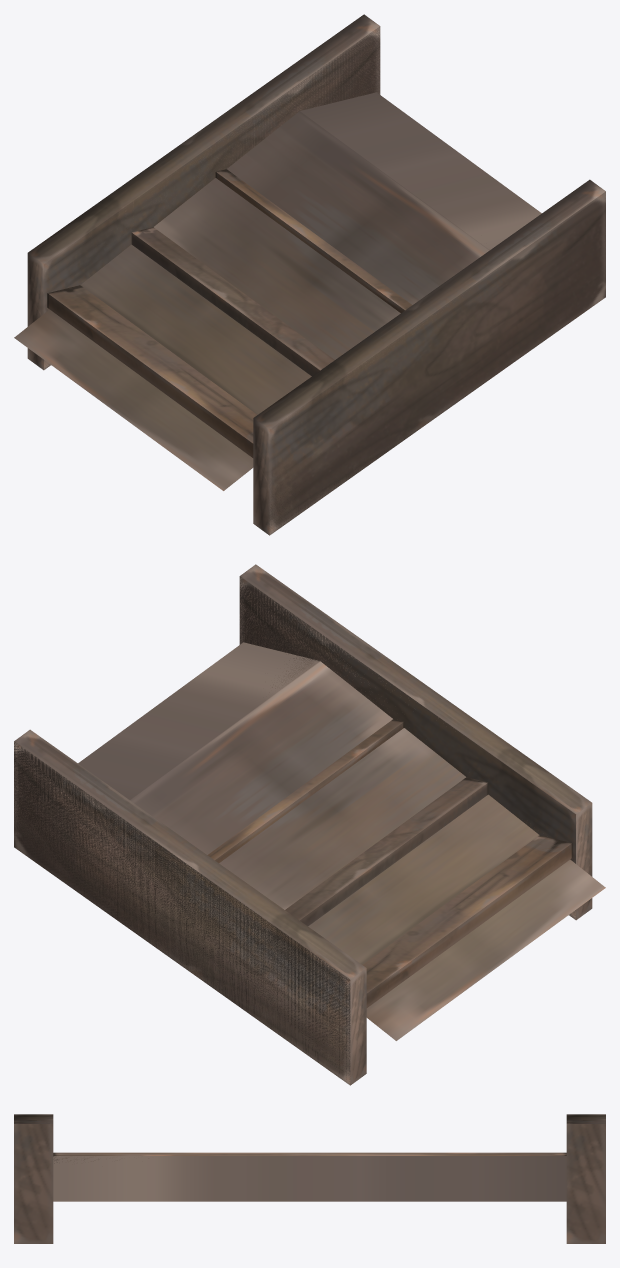
The model's file is stairs04_A.fbx.
The picture shows the model from 3 angles, top to bottom: view 1: azimuth 30°, elevation 25°; view 2: azimuth 150°, elevation 25°; view 3: azimuth 270°, elevation 25°; orthographic projection. The views are drawn at different scales.
Parts seen in each view (by area): view 1: stairs04_A_COL, stairs04_A; view 2: stairs04_A_COL, stairs04_A; view 3: stairs04_A_COL, stairs04_A.
Boxes of the visible parts, x1,y1,x2,y2 form: stairs04_A_COL: (14,14,605,535); stairs04_A: (44,26,605,535); stairs04_A_COL: (14,564,605,1085); stairs04_A: (14,576,575,1081); stairs04_A_COL: (14,1114,605,1201); stairs04_A: (14,1124,605,1243).
Size of the model in its own units: 131 by 89.73 by 150.
